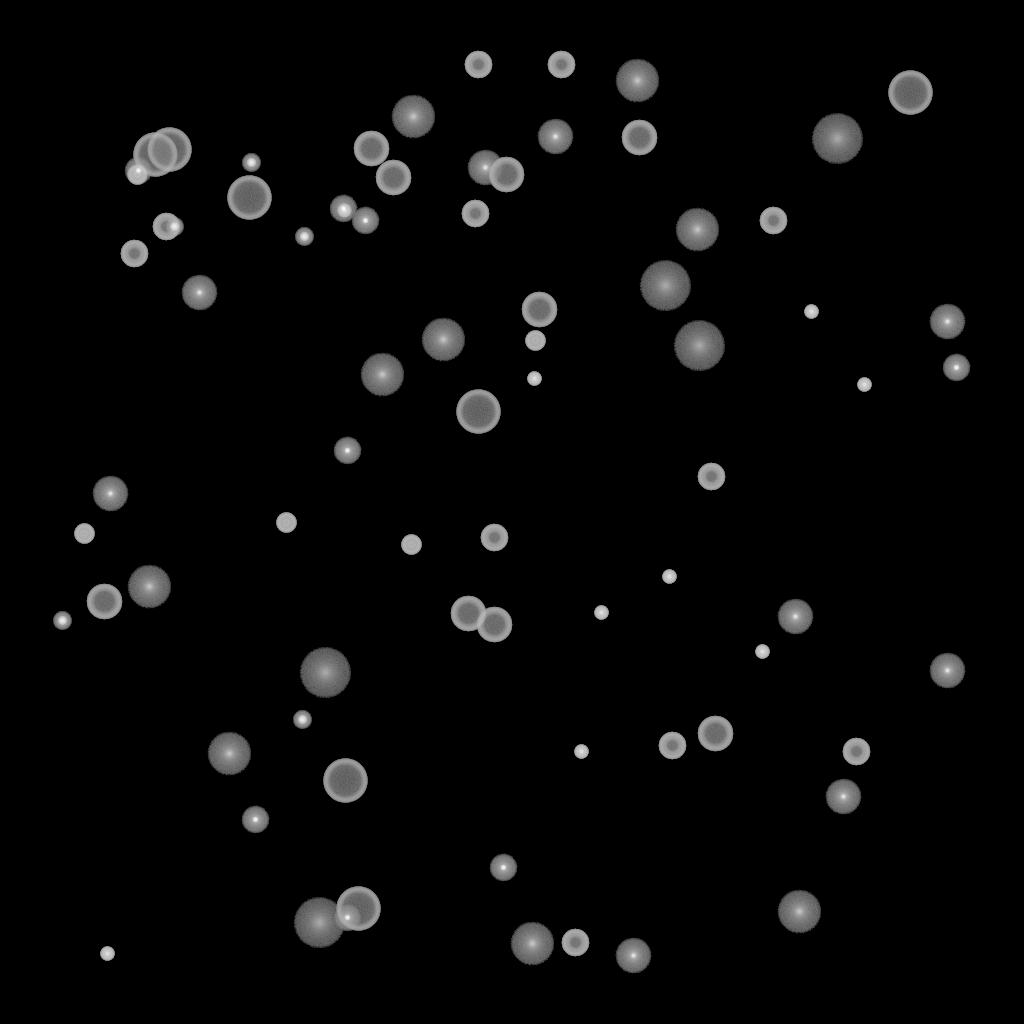depth:-10: (124, 157, 152, 185), (241, 806, 269, 834), (489, 854, 517, 882), (333, 437, 361, 465), (329, 195, 357, 223), (351, 207, 379, 235), (942, 354, 970, 382), (333, 904, 361, 932)
depth:-20: (242, 154, 260, 172), (295, 228, 313, 246), (293, 711, 311, 729), (165, 218, 183, 236), (53, 612, 71, 630)
depth:-30: (755, 645, 769, 659), (804, 305, 818, 319), (662, 570, 676, 584), (527, 372, 541, 386), (857, 378, 871, 392), (100, 947, 114, 961), (574, 745, 588, 759), (594, 606, 608, 620), (337, 204, 351, 218)
depth:-40: (401, 535, 421, 555), (74, 524, 94, 544), (276, 513, 296, 533), (127, 165, 147, 185), (525, 331, 545, 351)
depth:-50: (461, 200, 489, 228), (658, 732, 686, 760), (547, 51, 575, 79), (464, 51, 492, 79), (842, 738, 870, 766), (697, 463, 725, 491), (561, 929, 589, 957), (152, 213, 180, 241), (480, 524, 508, 552), (120, 240, 148, 268), (759, 207, 787, 235)
depth:-60: (353, 131, 389, 167), (621, 120, 657, 156), (697, 716, 733, 752), (375, 160, 411, 196), (476, 607, 512, 643), (521, 292, 557, 328), (86, 584, 122, 620), (488, 157, 524, 193), (450, 596, 486, 632)
depth:-70: (336, 887, 380, 931), (456, 390, 500, 434), (323, 759, 367, 803), (133, 133, 177, 177), (147, 128, 191, 172), (888, 71, 932, 115), (227, 176, 271, 220)
depth:0: (929, 653, 965, 689), (615, 938, 651, 974), (825, 779, 861, 815), (777, 599, 813, 635), (467, 150, 503, 186), (92, 476, 128, 512), (929, 304, 965, 340), (181, 275, 217, 311), (537, 119, 573, 155)
depth:10: (207, 732, 251, 776), (421, 318, 465, 362), (391, 95, 435, 139), (675, 208, 719, 252), (360, 353, 404, 397), (127, 565, 171, 609), (777, 890, 821, 934), (615, 59, 659, 103), (510, 922, 554, 966)
depth:20: (673, 321, 725, 371), (299, 648, 351, 698), (293, 898, 345, 948), (811, 114, 863, 164), (639, 261, 691, 311)
